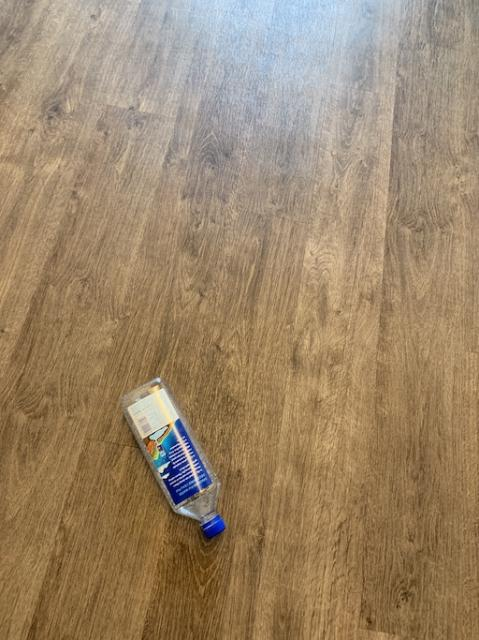plastic: (120, 377, 223, 536)
